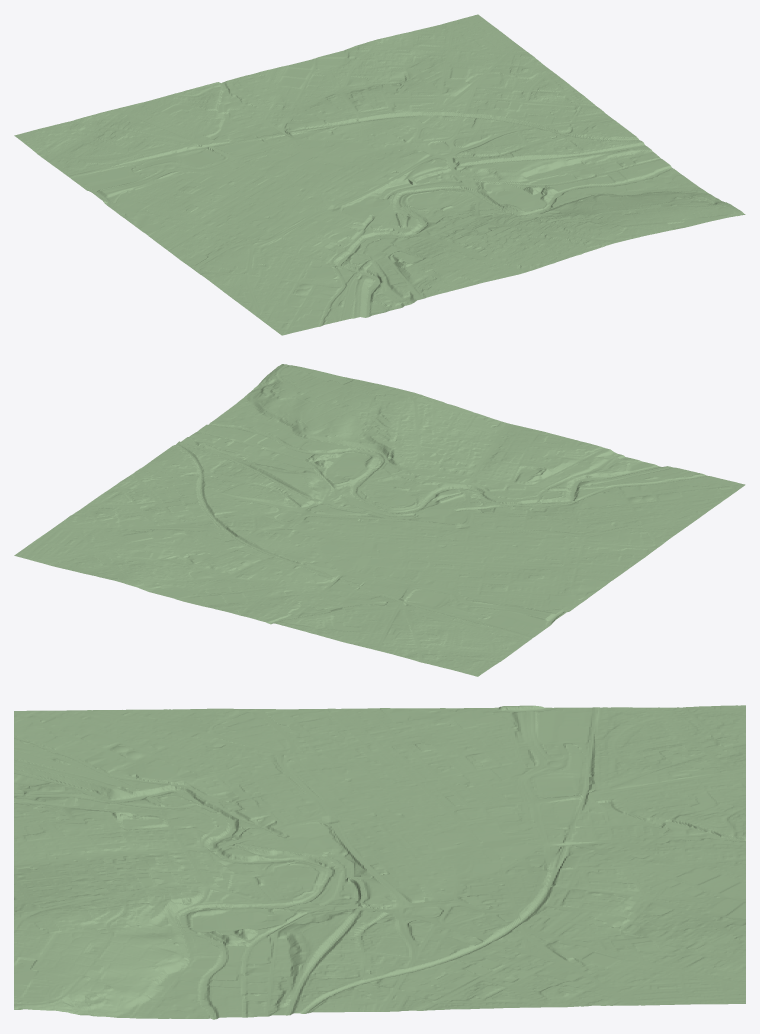
File: terrain.glb
3 renders of one model, top to bottom at view 1: azimuth 30°, elevation 25°; view 2: azimuth 150°, elevation 25°; view 3: azimuth 270°, elevation 25°, orthographic. The views are drawn at different scales.
Visible parts, largest first — view 1: terrain_0; view 2: terrain_0; view 3: terrain_0.
Part boxes in pixels (bbox=[...]): terrain_0: bbox=[14, 14, 745, 335]; terrain_0: bbox=[14, 364, 745, 676]; terrain_0: bbox=[14, 705, 745, 1019].
Size of the model in its own units: 2016 by 61.2 by 2016.
